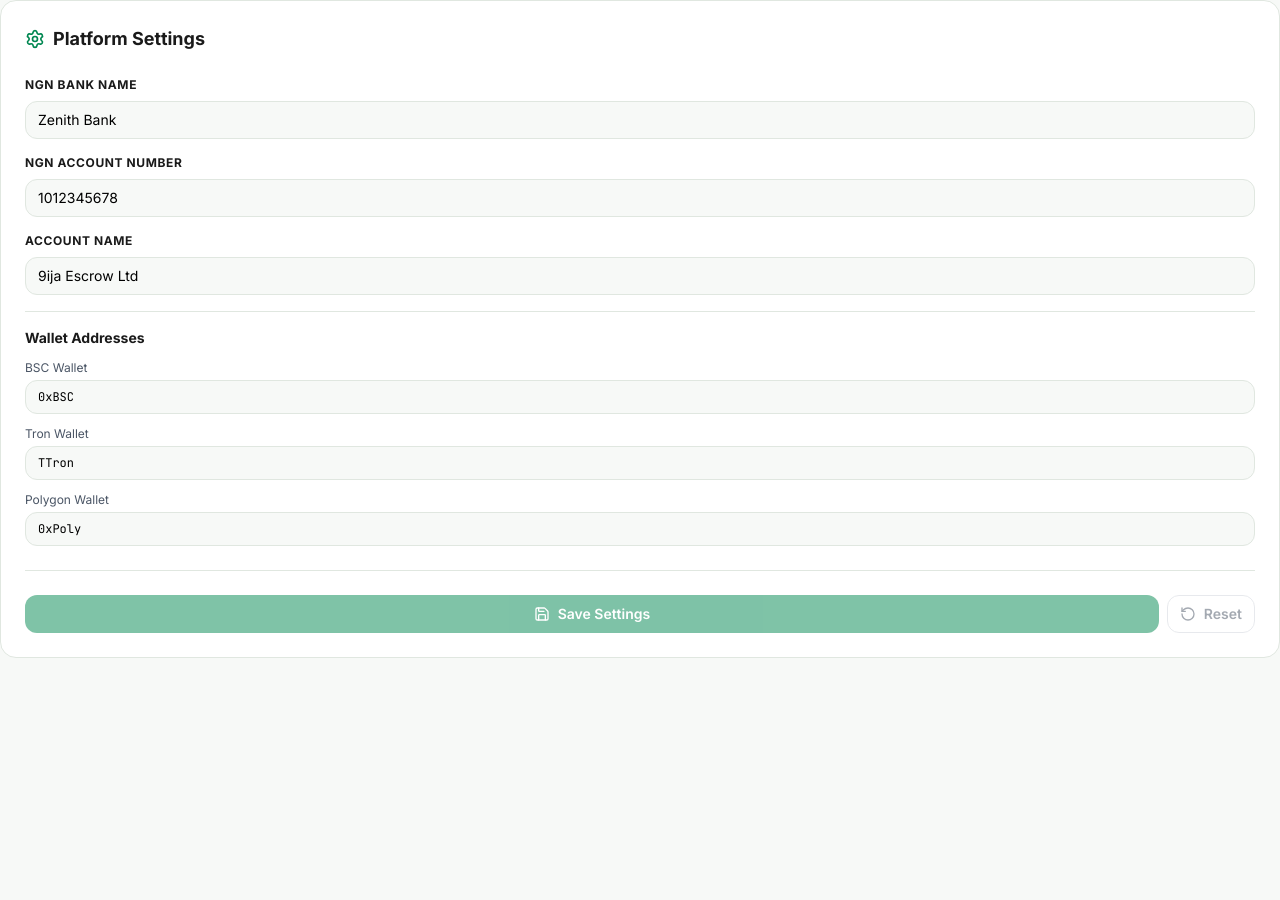
Test case: SettingsTab › resets form state when reset button is clicked
Replace the text in the field showing "Zenith Bank" below "NGN Bank Name" with "First Bank" at (640, 120), box x1=25 y1=101 x2=1255 y2=139
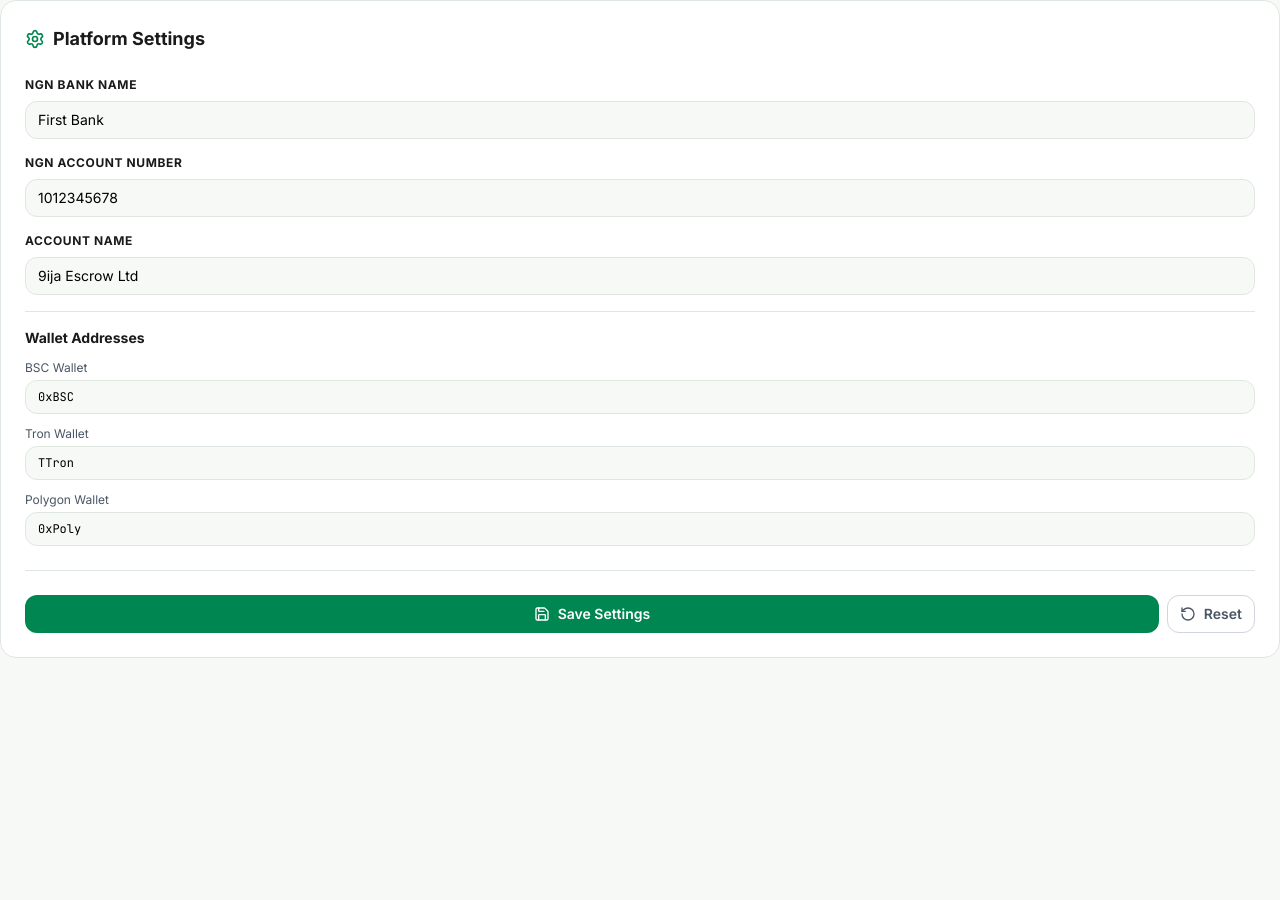
Click the button "Reset" at (1211, 614), box x1=1167 y1=595 x2=1255 y2=633
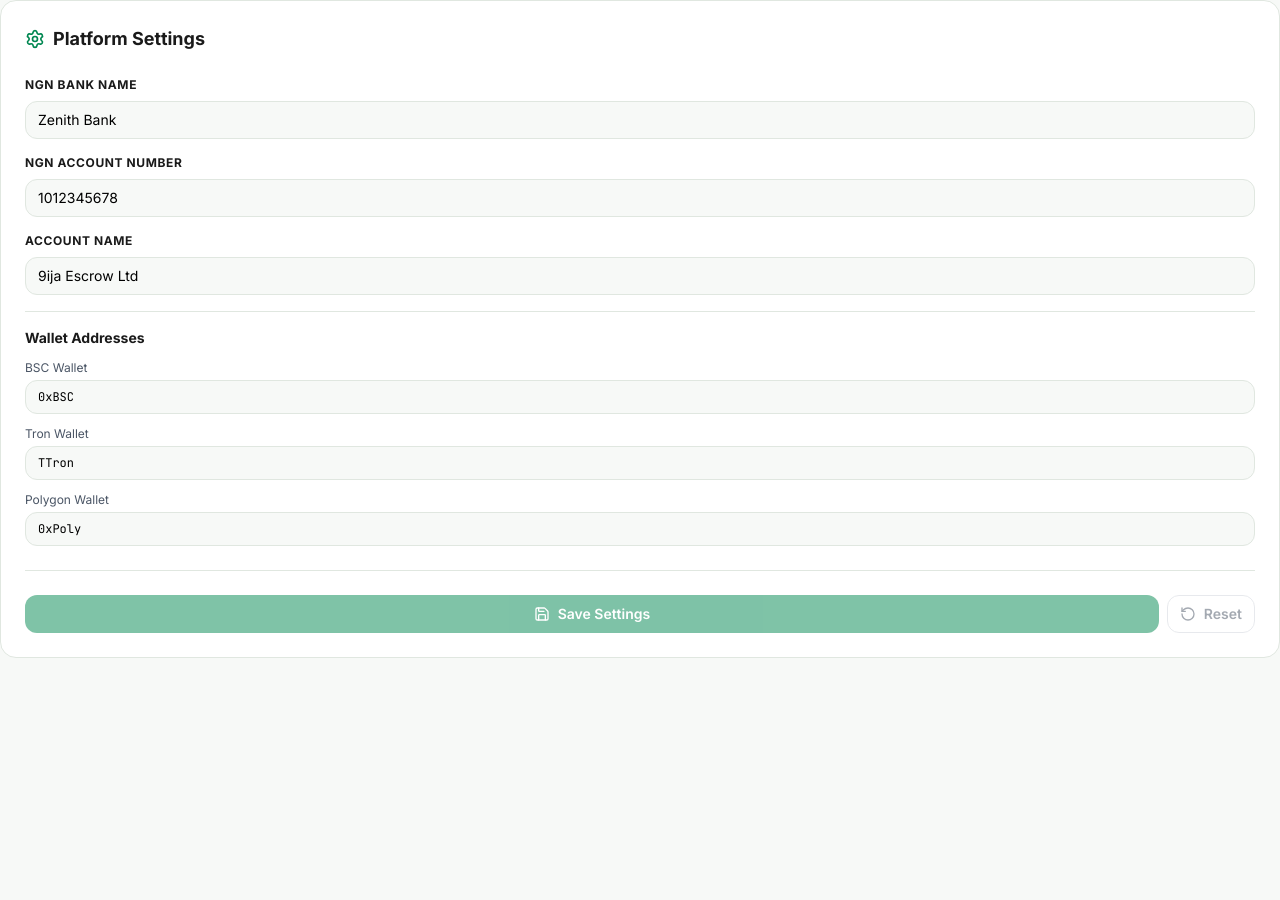
Check: the field showing "Zenith Bank" below "NGN Bank Name" is shown, box x1=25 y1=101 x2=1255 y2=139
